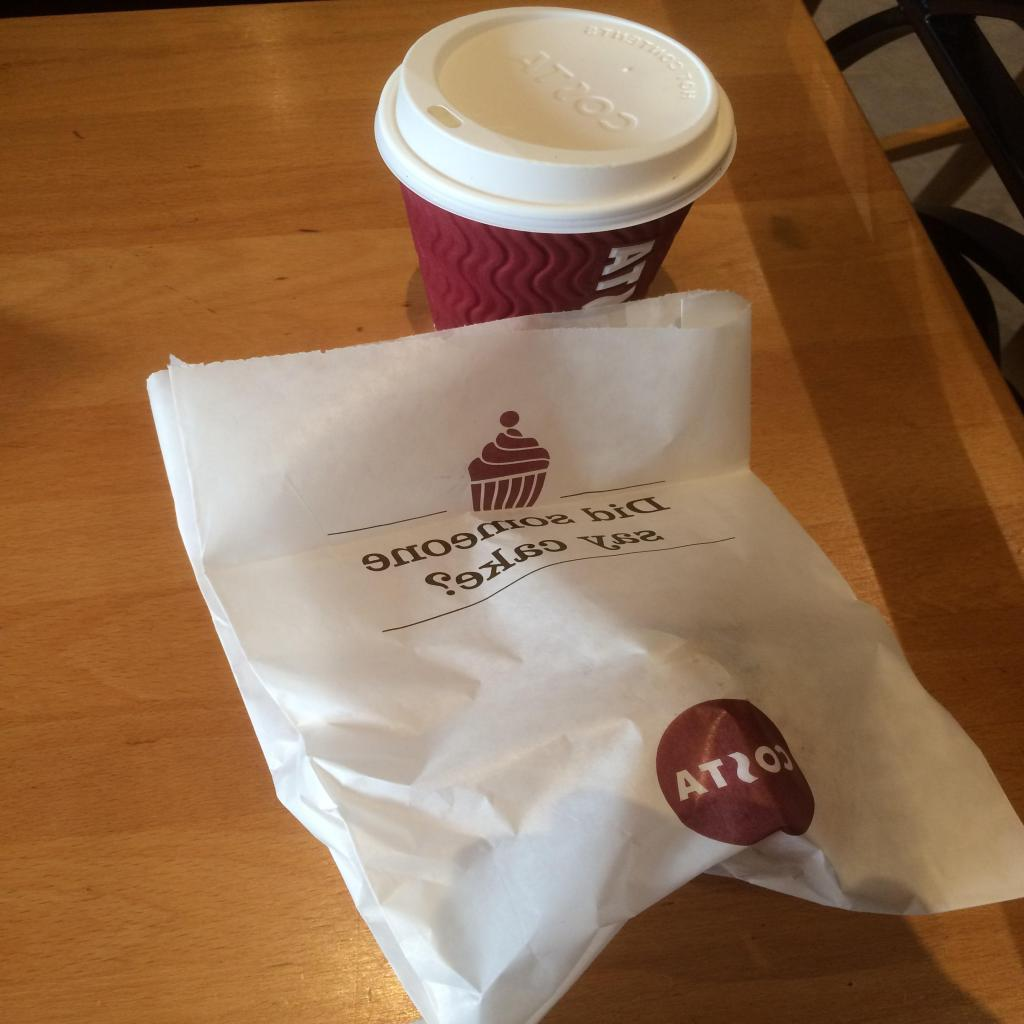Paper bag: (147, 289, 1023, 1023)
Paper cup: (374, 6, 738, 330)
Plastic lid: (376, 6, 737, 234)
